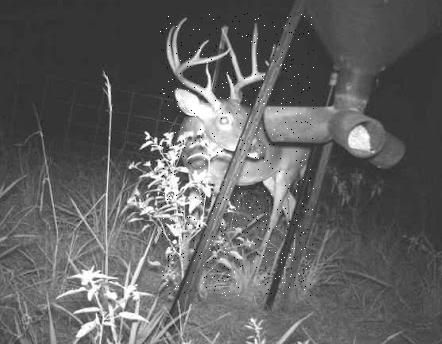Deer: (160, 13, 314, 296)
